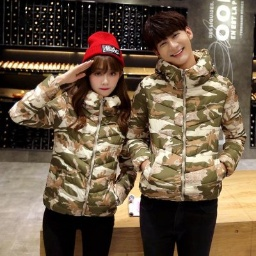face: (141, 6, 201, 76), (75, 53, 131, 111)
